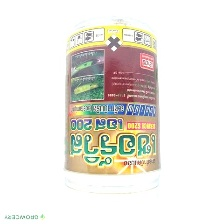insecticide: (61, 12, 166, 212)
